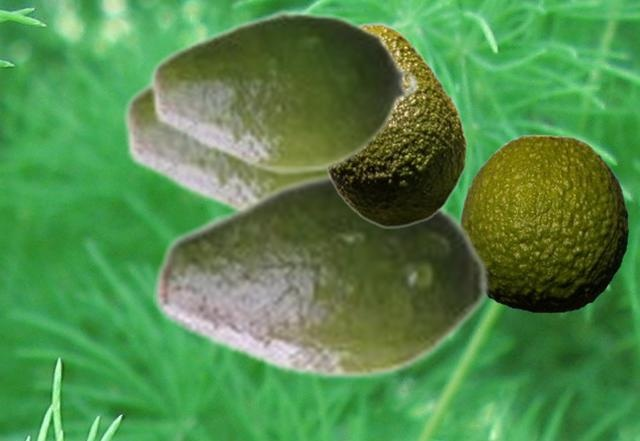avocado: (153, 173, 490, 381), (147, 7, 420, 176), (459, 134, 627, 312), (324, 22, 467, 227), (120, 76, 307, 210)
